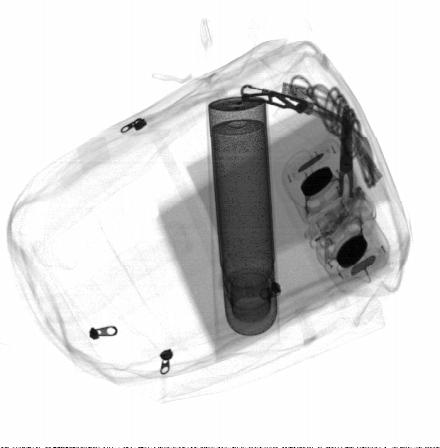Knife: (241, 85, 355, 123)
Scissors: (311, 103, 375, 246)
